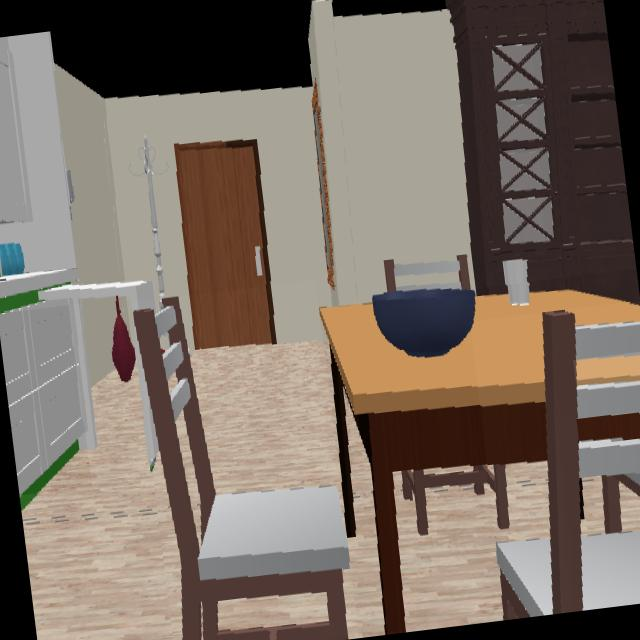bookshelf: (447, 0, 638, 300)
cabinet: (0, 301, 85, 495)
chair: (134, 298, 349, 640), (497, 313, 640, 617)
countertop: (0, 270, 77, 312)
table: (322, 291, 640, 631), (575, 355, 640, 385), (577, 413, 640, 442)
